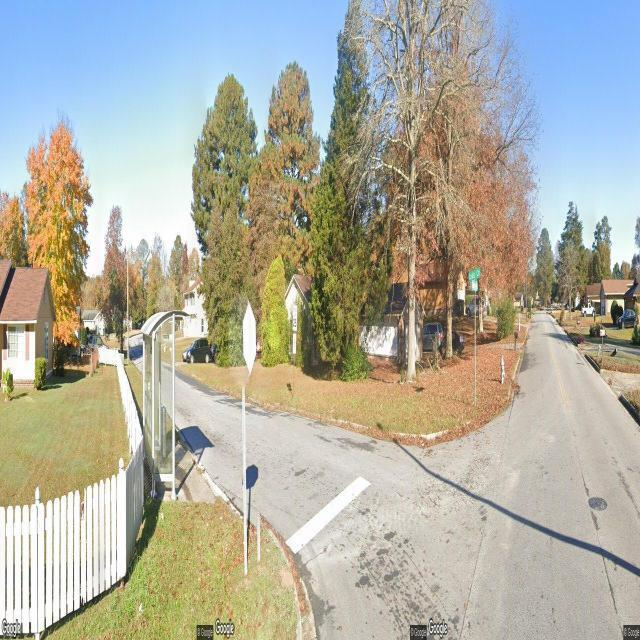seating: (155, 438, 161, 460)
shelter: (140, 306, 190, 504)
trash_can: (158, 406, 168, 460)
